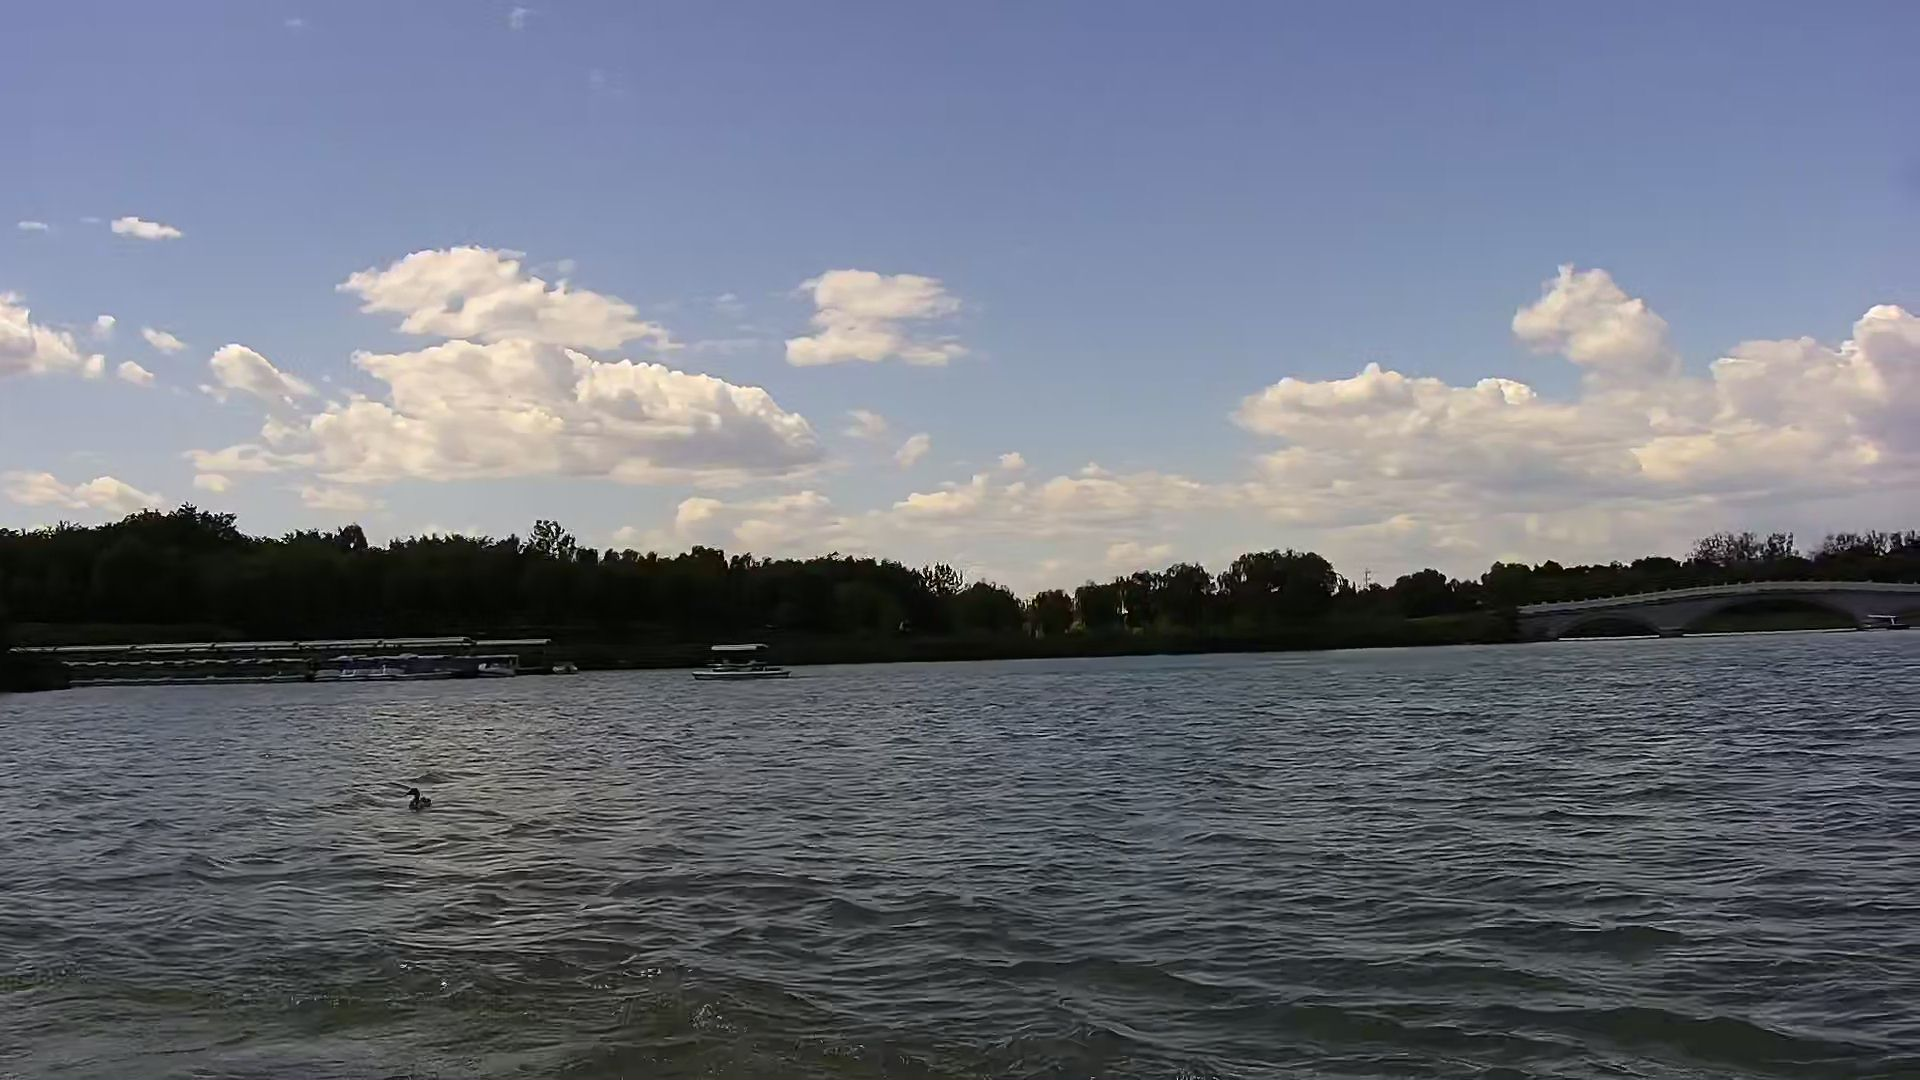animal: (400, 781, 444, 816)
boat: (692, 640, 791, 684)
bridge: (1524, 575, 1920, 645)
harbor: (1, 629, 571, 690)
